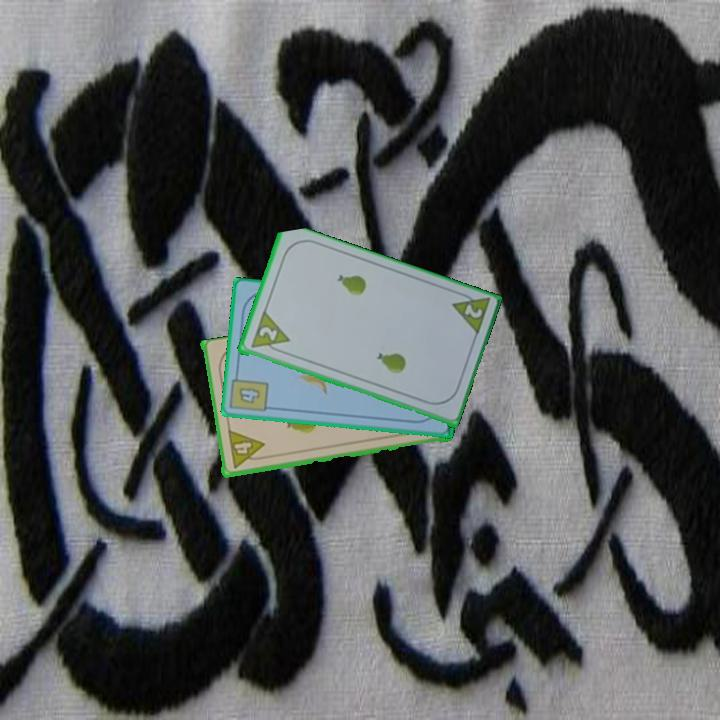2p: (448, 288, 492, 340), (255, 323, 280, 345)
4b: (228, 369, 271, 415)
4p: (224, 427, 268, 472)
